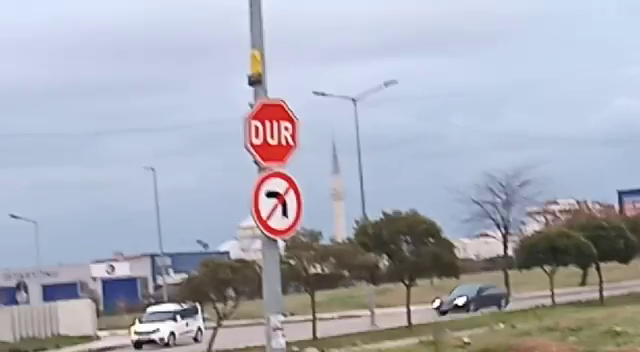no_left: (247, 170, 305, 242)
stop: (241, 98, 301, 168)
